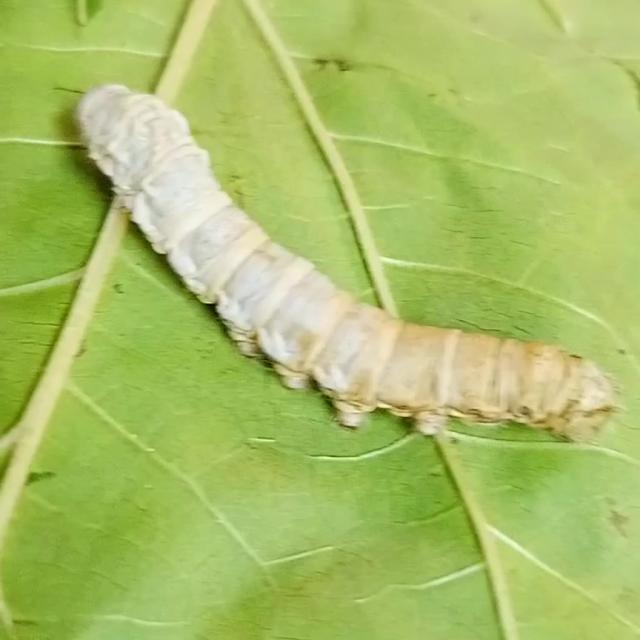Grasserie: (55, 51, 624, 510)
